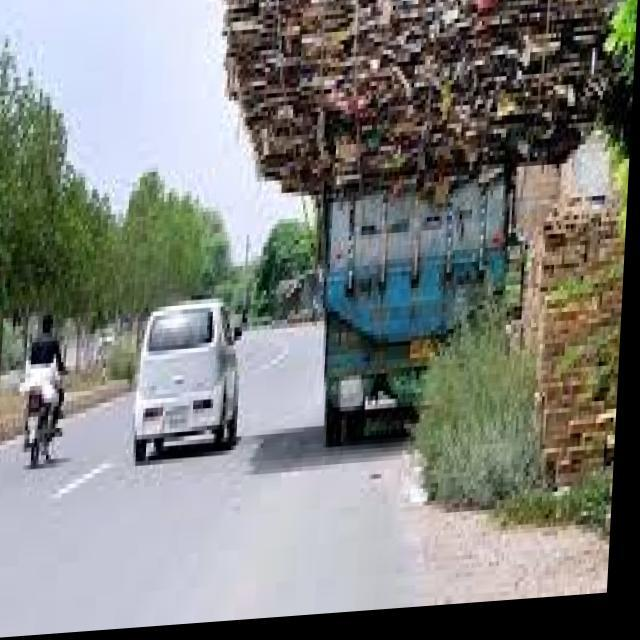uncovered: (201, 0, 628, 465)
